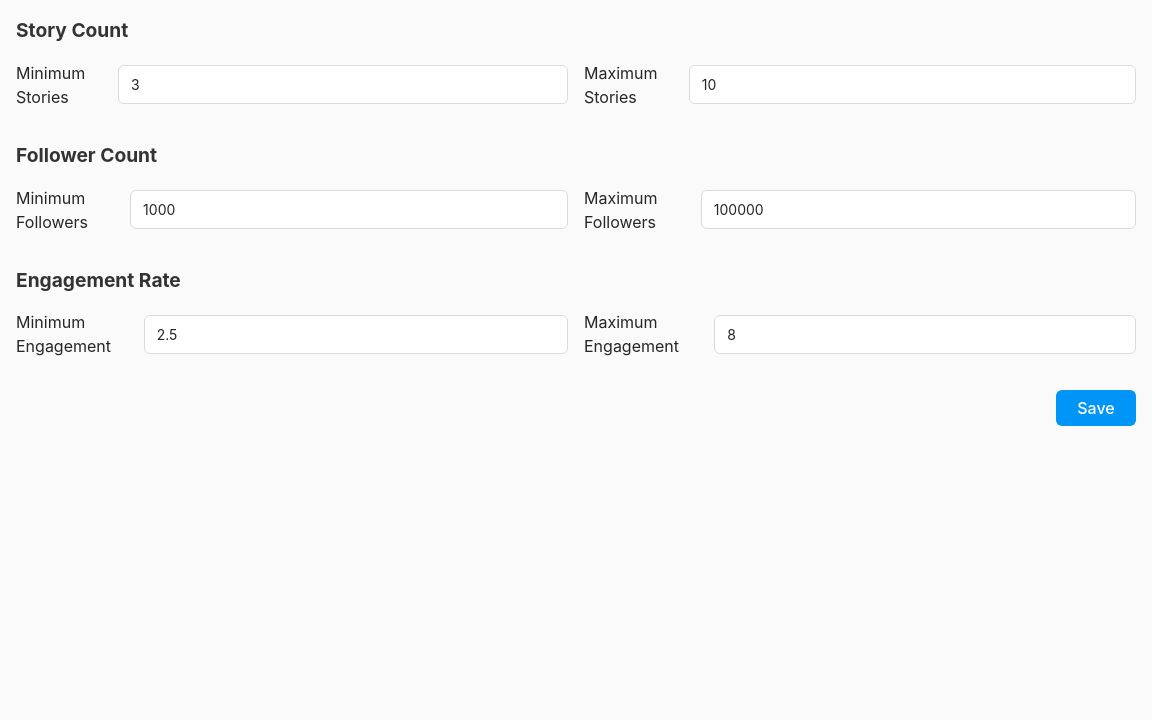
Test case: StoryTargets Component › Persistence › shows success message after saving
The width and height of the screenshot is (1152, 720).
Click the button "Save": [1096, 408] box left=1056, top=390, right=1136, bottom=426
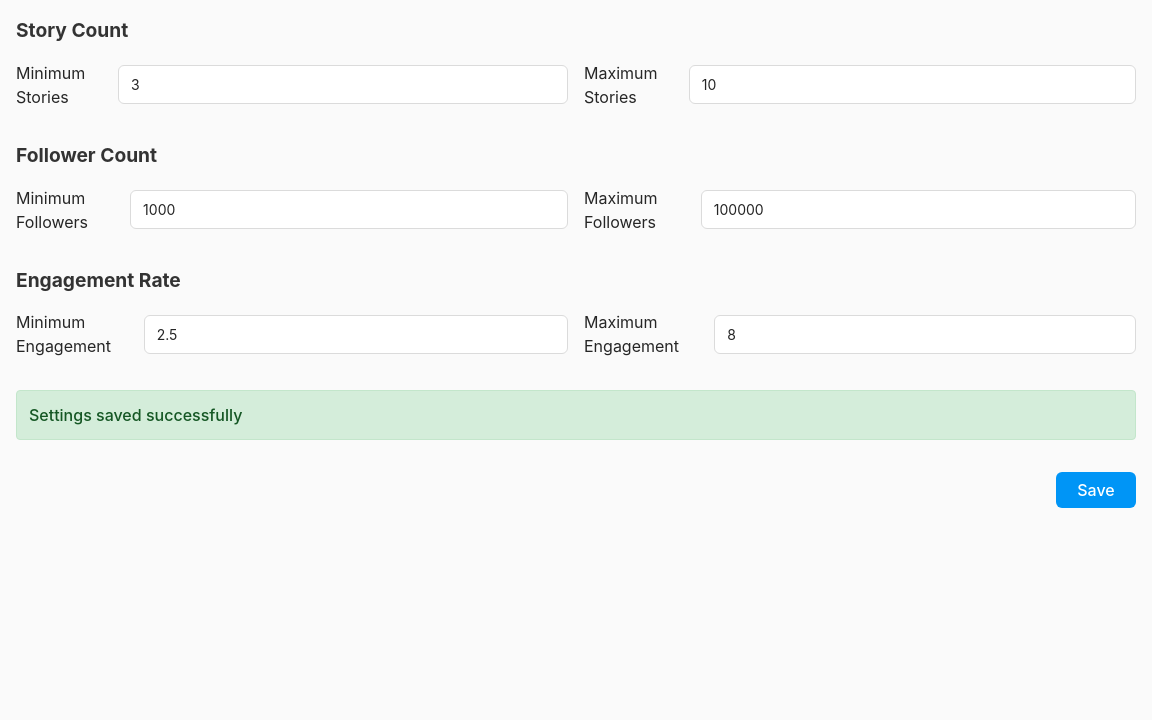
Expected: the text "Settings saved successfully" is shown, left=16, top=390, right=1136, bottom=440
